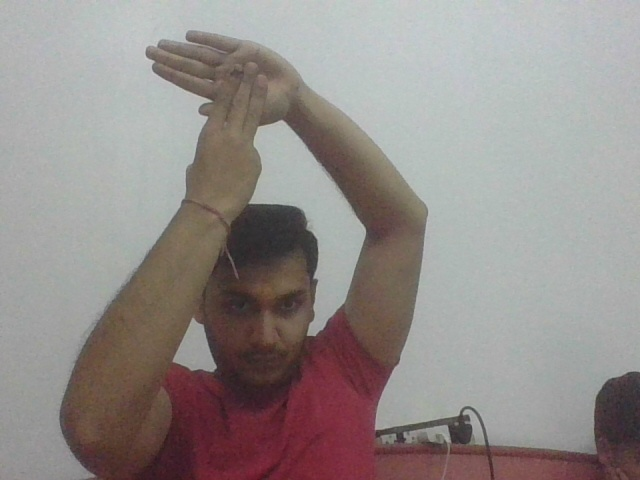M: (143, 24, 295, 156)
